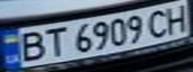0: (106, 16, 130, 47)
6: (69, 20, 93, 54)
9: (124, 12, 148, 44), (90, 18, 112, 51)
B: (12, 28, 51, 63)
C: (142, 7, 175, 38)
H: (160, 1, 193, 34)
T: (39, 25, 69, 58)
